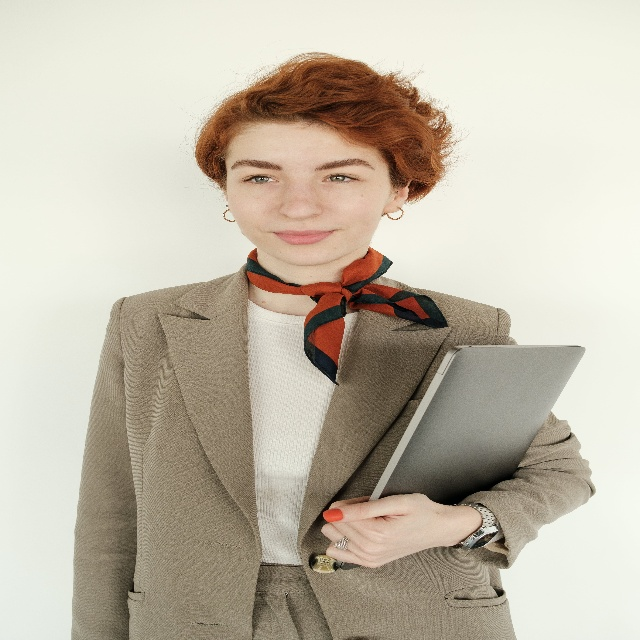Sin_guantes: (320, 488, 444, 570)
